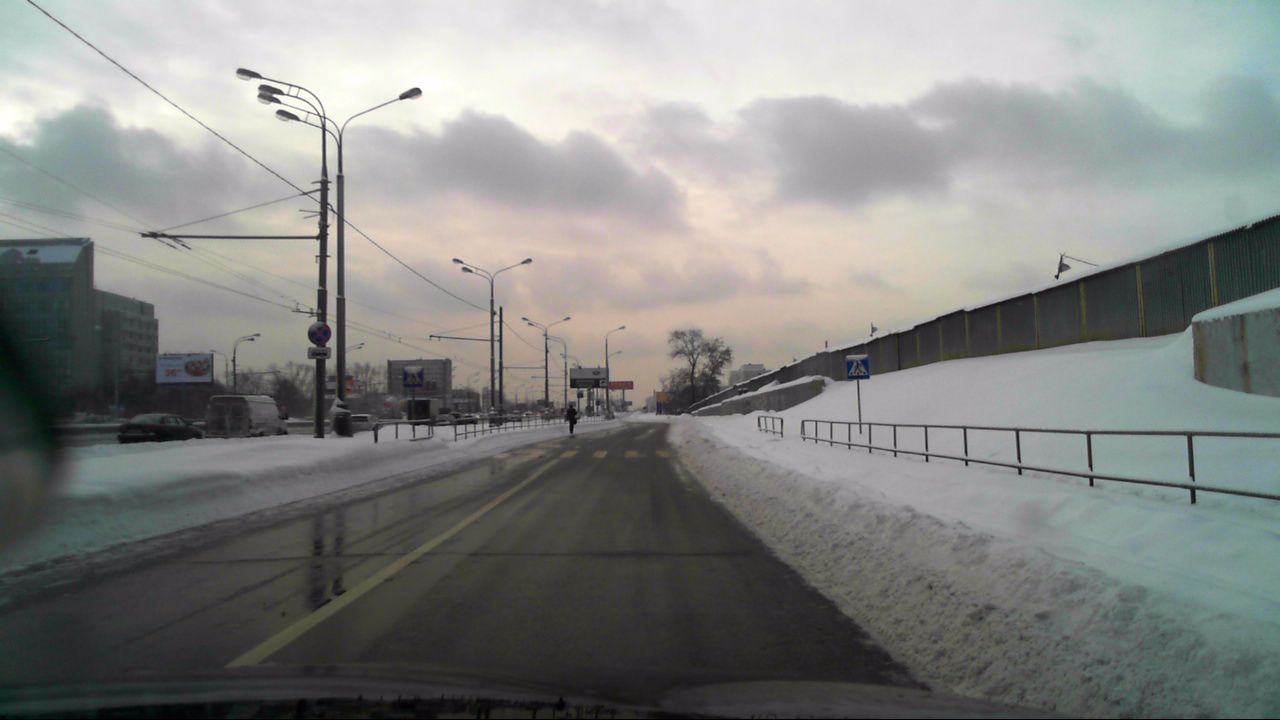No Parking: (306, 320, 330, 345)
